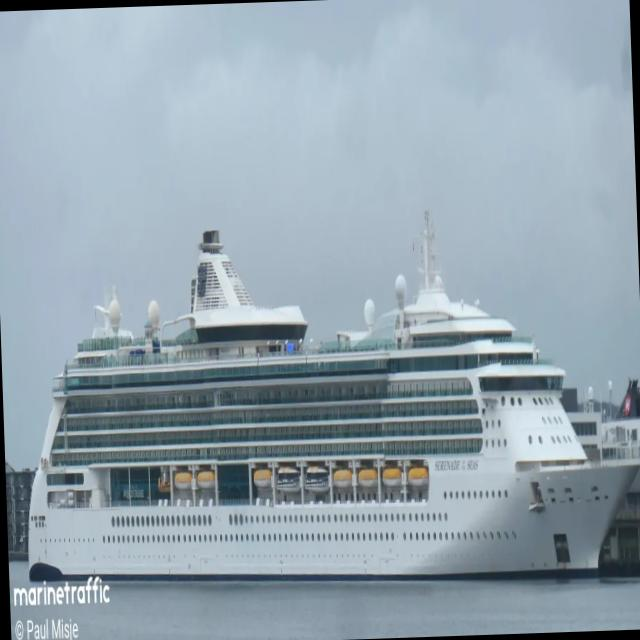Cruise: (27, 217, 640, 579)
